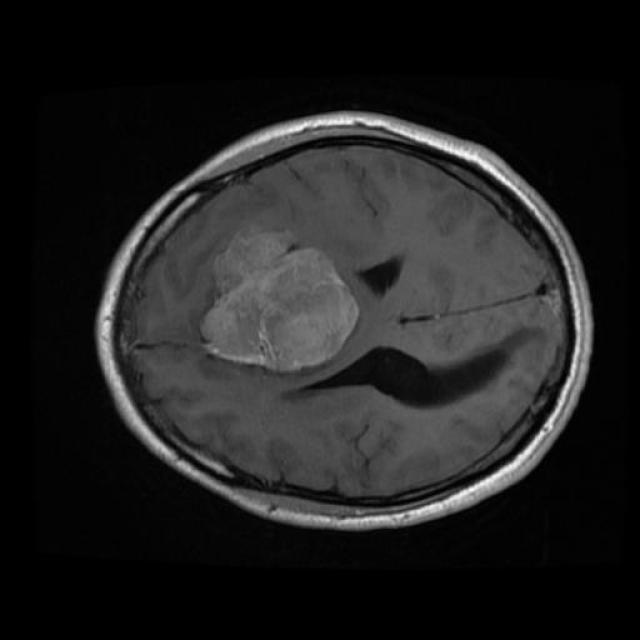Meningioma: (200, 232, 359, 372)
